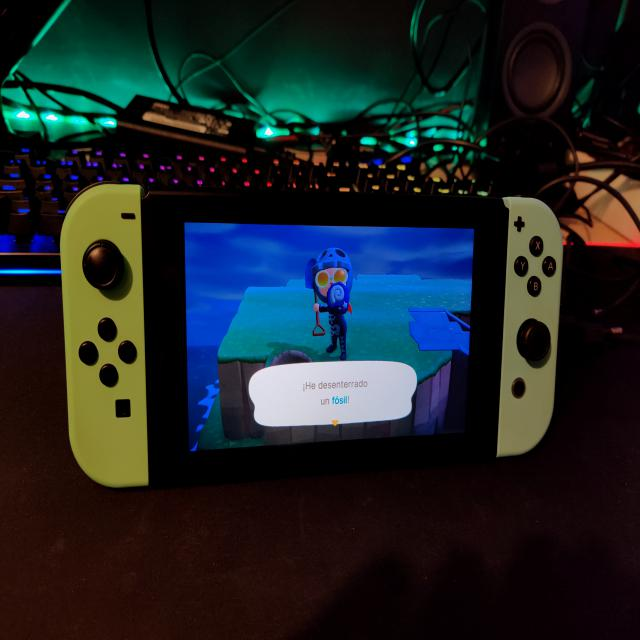text_bubble: (248, 359, 419, 431)
